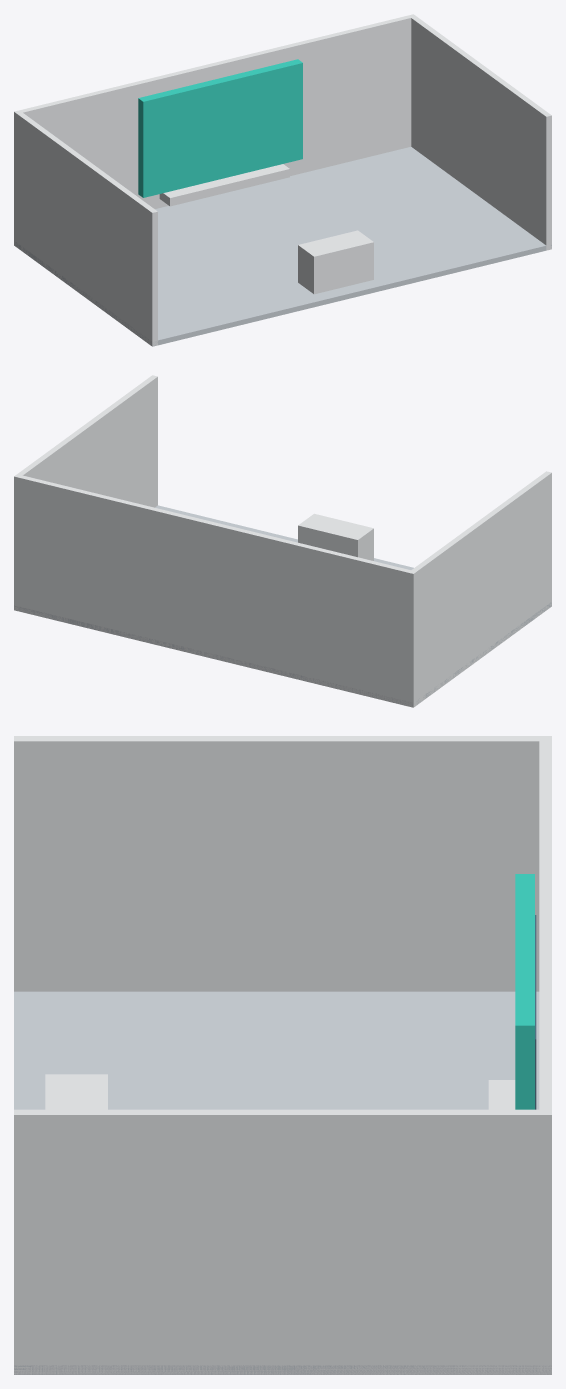
3 renders of one model, top to bottom at view 1: azimuth 30°, elevation 25°; view 2: azimuth 150°, elevation 25°; view 3: azimuth 270°, elevation 25°, orthographic. The views are drawn at different scales.
Visible parts, largest first — view 1: Exhibition Booth Concept; view 2: Exhibition Booth Concept; view 3: Exhibition Booth Concept.
Boxes of the visible parts, bbox=[...] form: Exhibition Booth Concept: bbox=[14, 14, 551, 346]; Exhibition Booth Concept: bbox=[14, 375, 551, 707]; Exhibition Booth Concept: bbox=[14, 736, 551, 1374].
Bounding box in the file's own units: 10 × 3.2 × 6.
